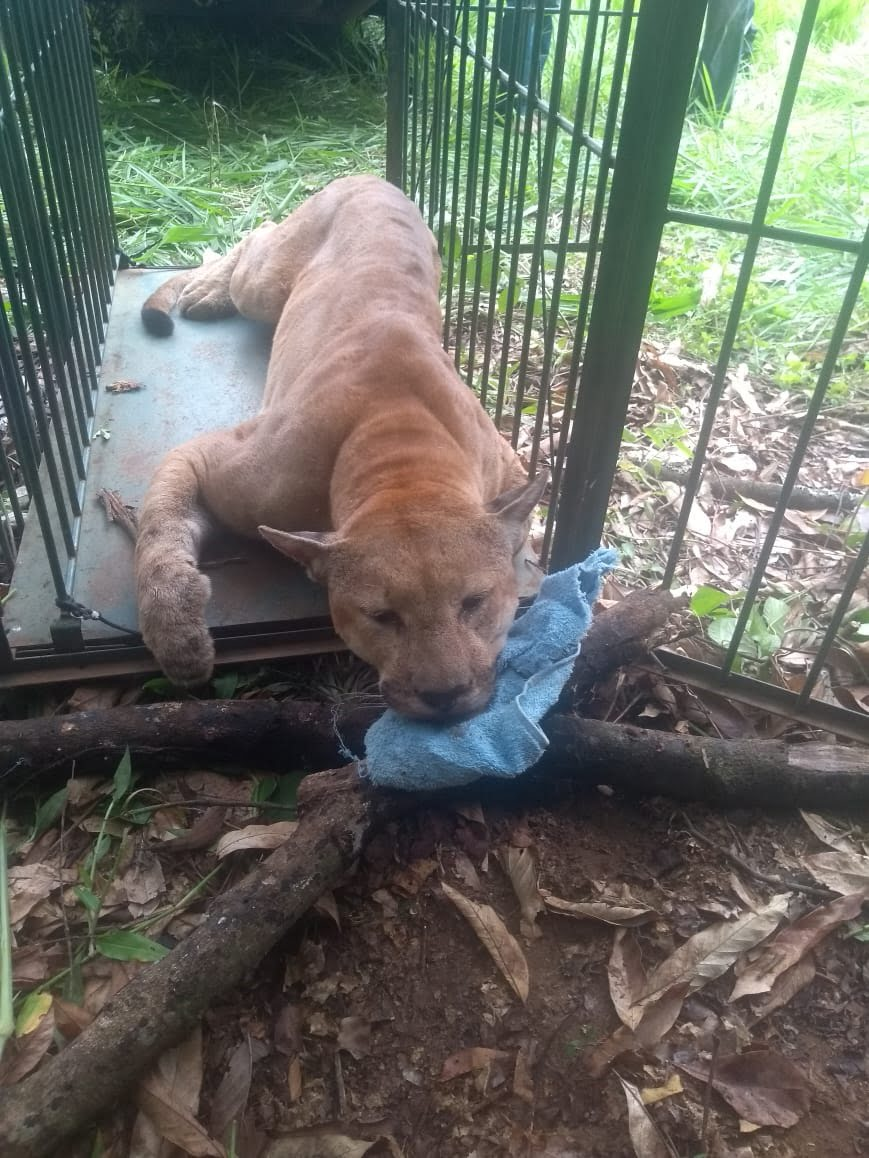OncaParda: (114, 171, 580, 717)
